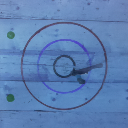Axe Tip: (79, 71, 87, 74)
